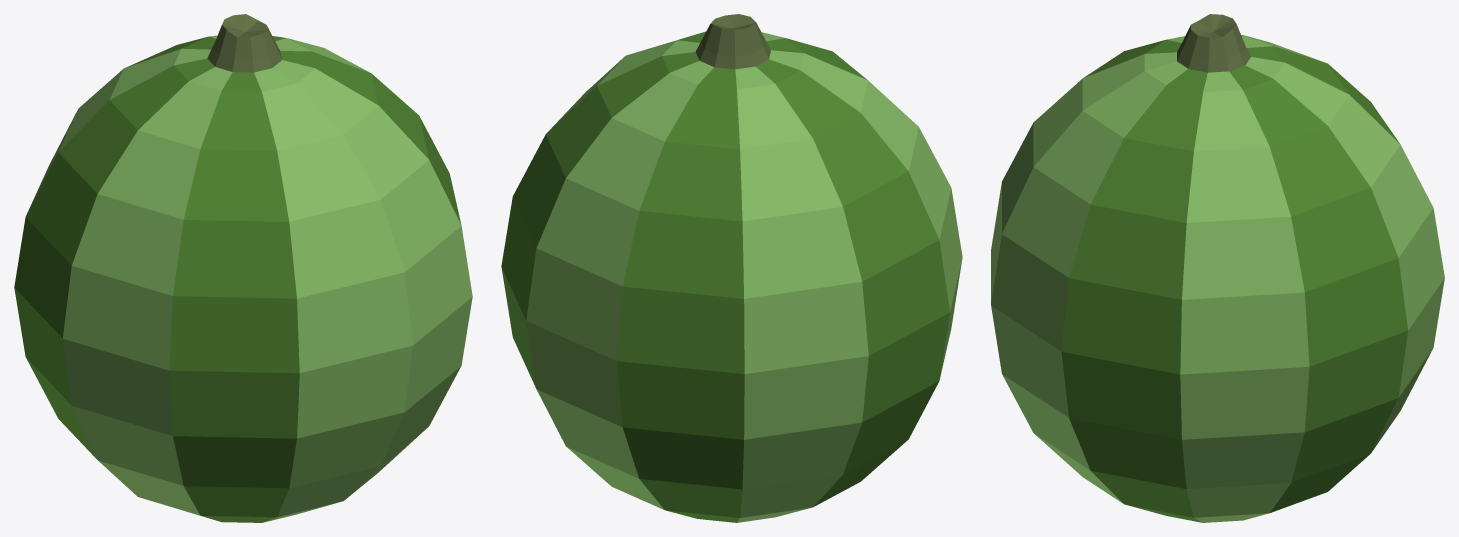
The model's file is Watermelon.fbx.
The picture shows the model from 3 angles, left to right: view 1: azimuth 30°, elevation 25°; view 2: azimuth 150°, elevation 25°; view 3: azimuth 270°, elevation 25°; orthographic projection.
Parts seen in each view (by area): view 1: Sphere; view 2: Sphere; view 3: Sphere.
Part boxes in pixels (bbox=[...]): Sphere: bbox=[14, 14, 472, 522]; Sphere: bbox=[501, 14, 962, 522]; Sphere: bbox=[991, 14, 1444, 522].
Size of the model in its own units: 198 by 229 by 196.
1 material, 1 textured.
